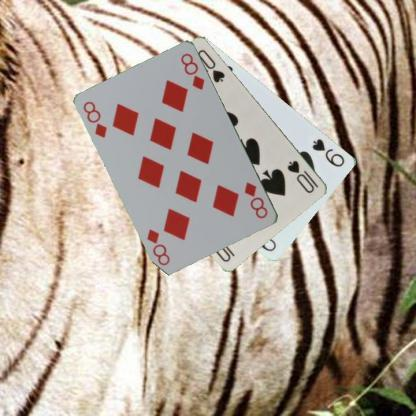10s: (284, 158, 320, 194)
8d: (81, 98, 109, 140), (242, 179, 269, 220)
9s: (310, 136, 346, 168)
